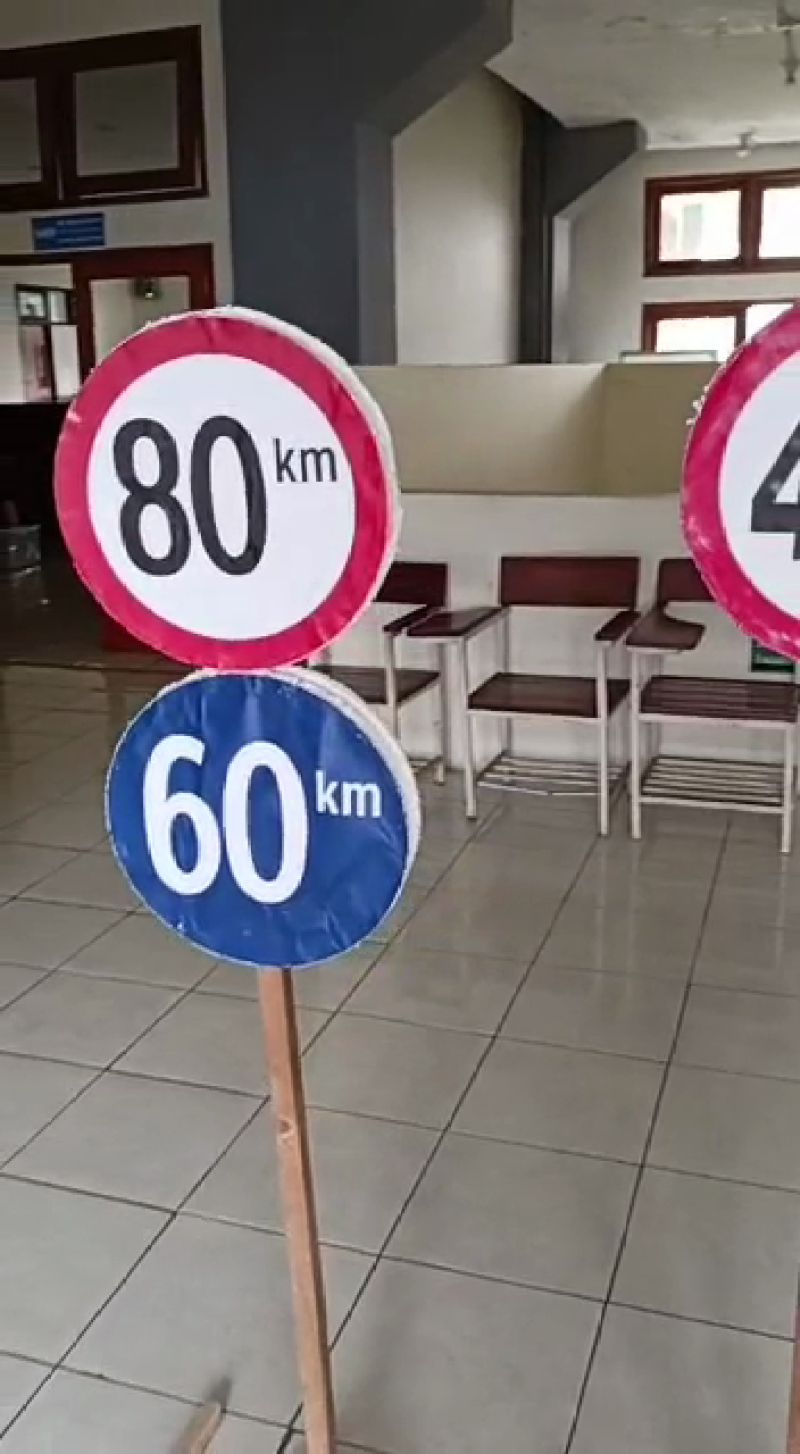batas maksimal 80kmperjam minimal 60kmperjam: (36, 293, 439, 979)
